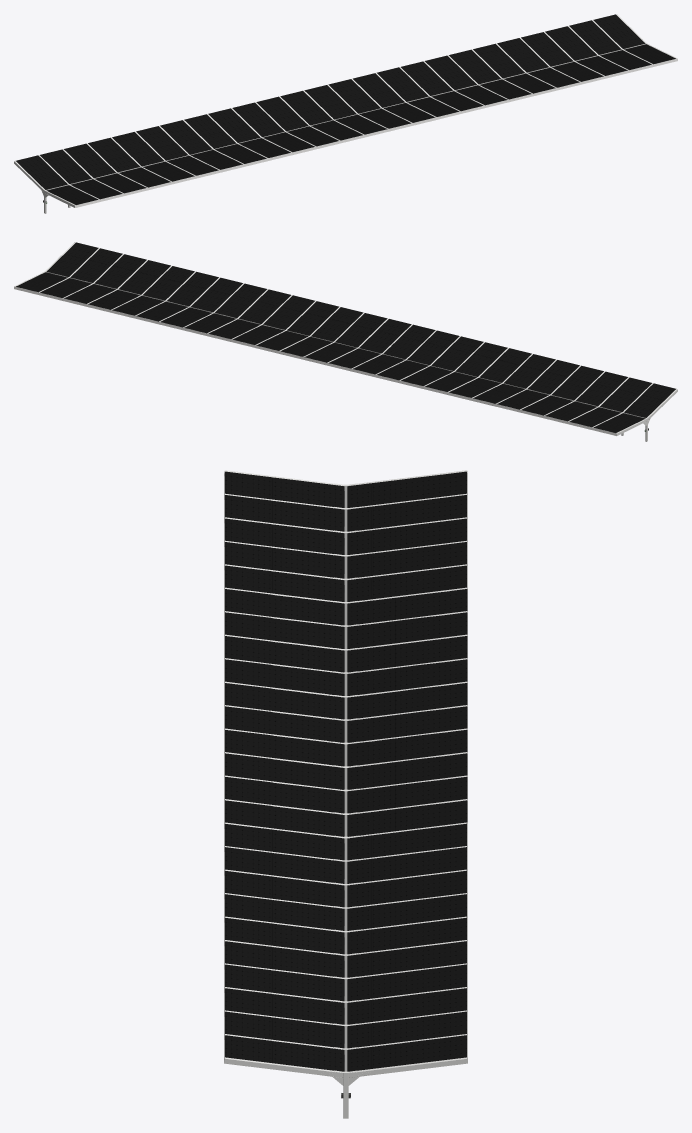
Rendered from Pac_50.glb.
3 views of the same model, one above another, from view 1: azimuth 30°, elevation 25°; view 2: azimuth 150°, elevation 25°; view 3: azimuth 270°, elevation 25° (orthographic). The views are drawn at different scales.
Parts seen in each view (by area): view 1: Left.050; view 2: Left.050; view 3: Left.050.
Boxes of the visible parts, box(x1,y1,x2,y2) form: Left.050: box(14, 14, 677, 213); Left.050: box(14, 242, 677, 441); Left.050: box(224, 470, 467, 1118).
Size of the model in its own units: 65.98 by 3.15 by 11.56.
24 materials, 20 textured.
